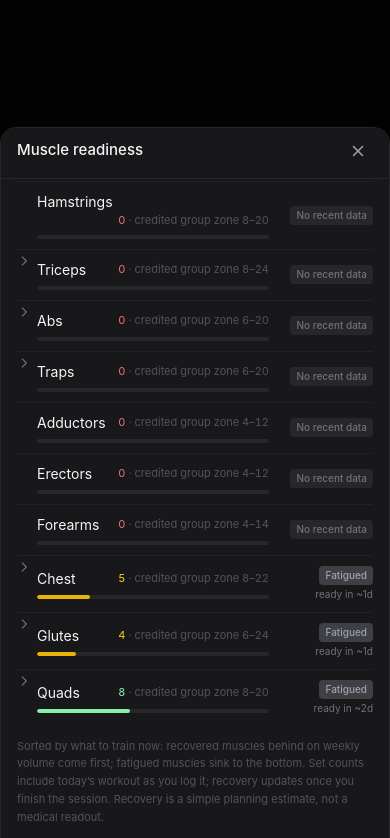
Test: MuscleReadinessSheet › tapping a muscle row reveals which exercises' sets are counted (coarse row and fine child)
(page scrolled)
Expected: the element with test id "readiness-row-quads" is shown, [17,669,373,726]
Click the button with test id "readiness-row-toggle-chest": (195, 584) [17,556,373,612]
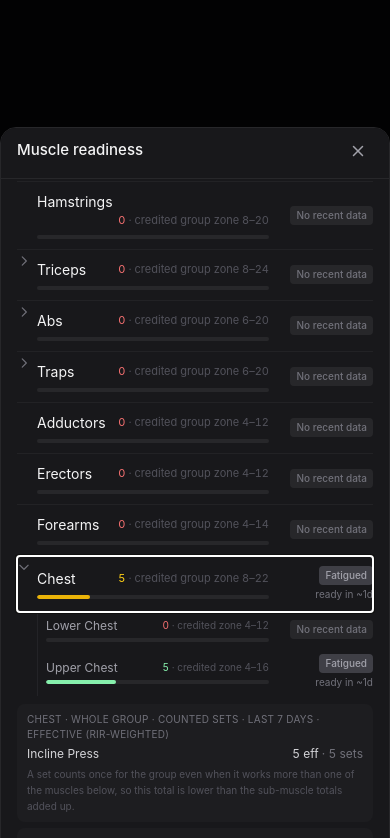
Expected: the element with test id "readiness-sources-chest" shows "Incline Press", [27,746,99,761]
Expected: the element with test id "readiness-sources-chest" shows "5 sets", [328,746,363,761]
Click the button with test id "readiness-sources-toggle-chest_upper": (210, 672) [46,648,373,696]
(page scrolled)
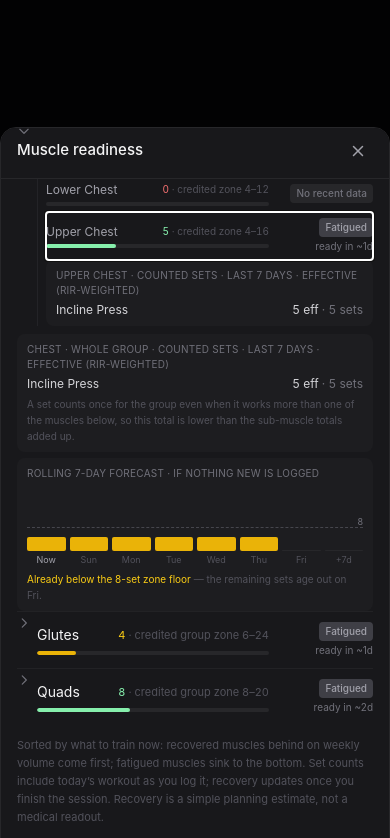
Expected: the element with test id "readiness-sources-chest_upper" shows "Incline Press", [56,302,128,317]
Expected: the element with test id "readiness-sources-chest_upper" shows "5 sets", [328,302,363,317]
Click the button with test id "readiness-row-toggle-quads": (195, 697) [17,669,373,725]
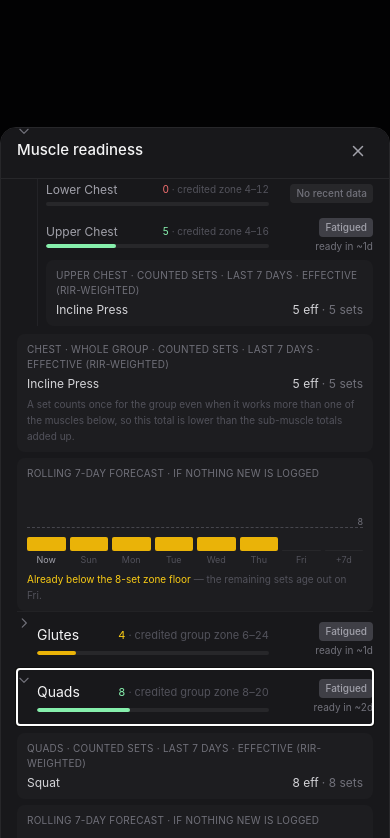
Expected: the element with test id "readiness-sources-quads" shows "Squat", [27,775,60,790]
Expected: the element with test id "readiness-sources-quads" shows "8 sets", [328,775,363,790]
